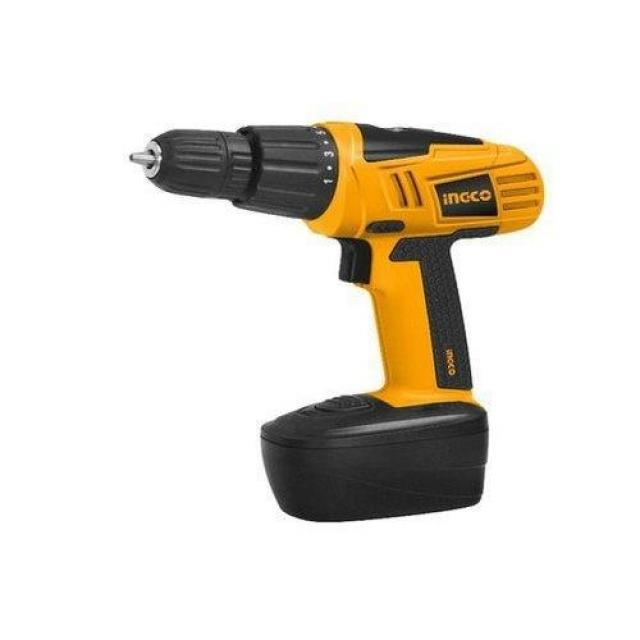drill: (126, 121, 545, 524)
